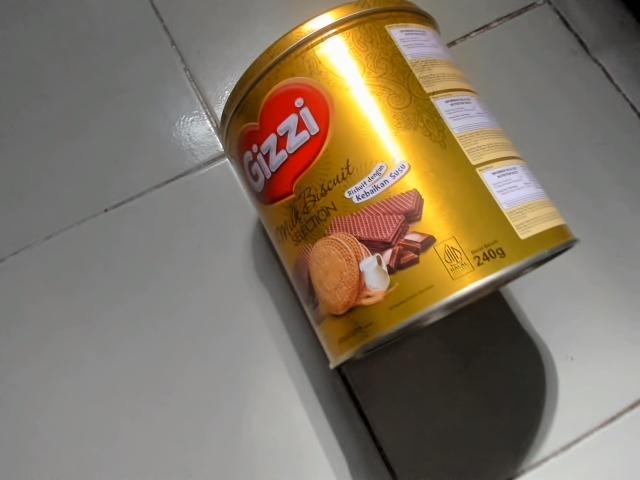anorganik: (212, 2, 587, 379)
